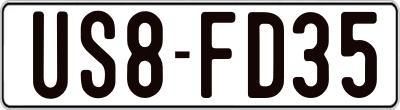3: (293, 9, 331, 99)
5: (340, 12, 381, 98)
8: (124, 10, 165, 99)
D: (246, 11, 283, 102)
F: (201, 9, 235, 100)
S: (79, 8, 113, 99)
U: (31, 10, 67, 100)
